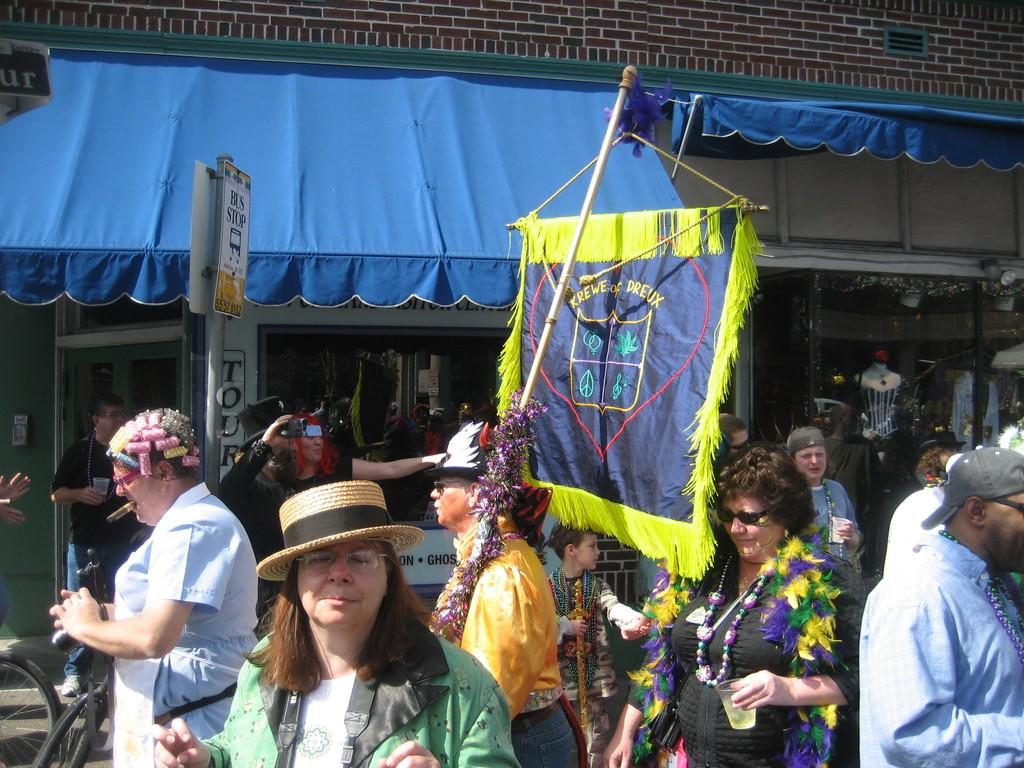Hat: (255, 482, 423, 584), (919, 446, 1023, 528), (421, 420, 499, 482), (238, 394, 287, 452)
